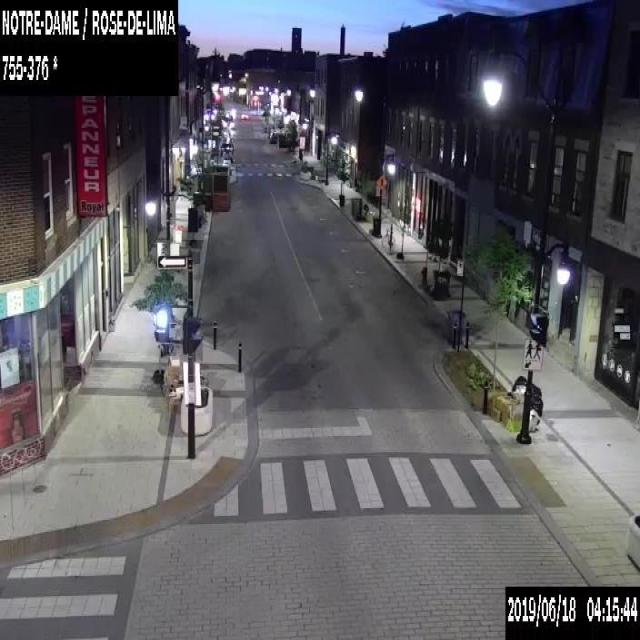vehicle: (220, 141, 233, 152), (223, 114, 232, 120), (241, 112, 248, 118)
